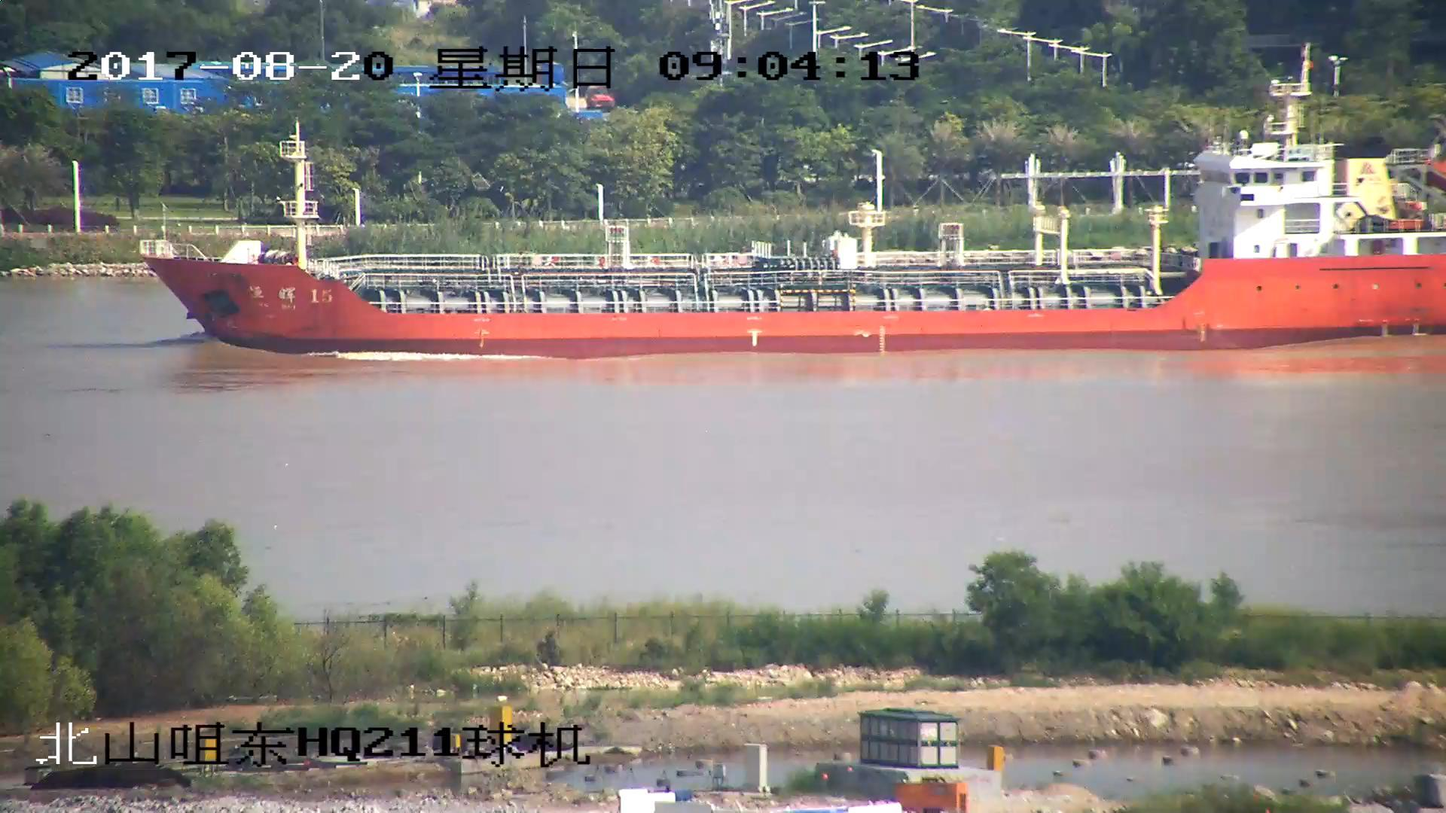general cargo ship: (133, 79, 1445, 354)
